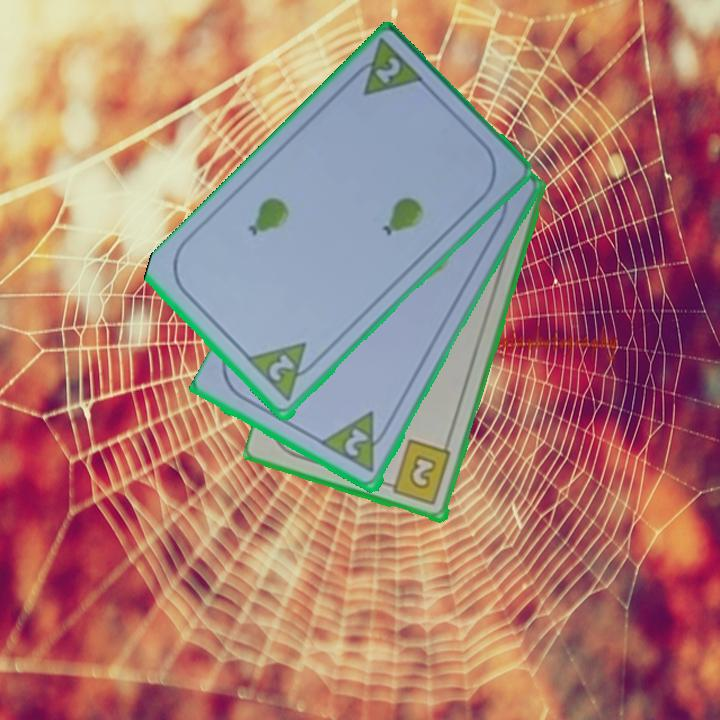2b: (381, 437, 454, 508)
2p: (245, 338, 323, 406), (319, 409, 395, 477), (371, 54, 404, 88)
